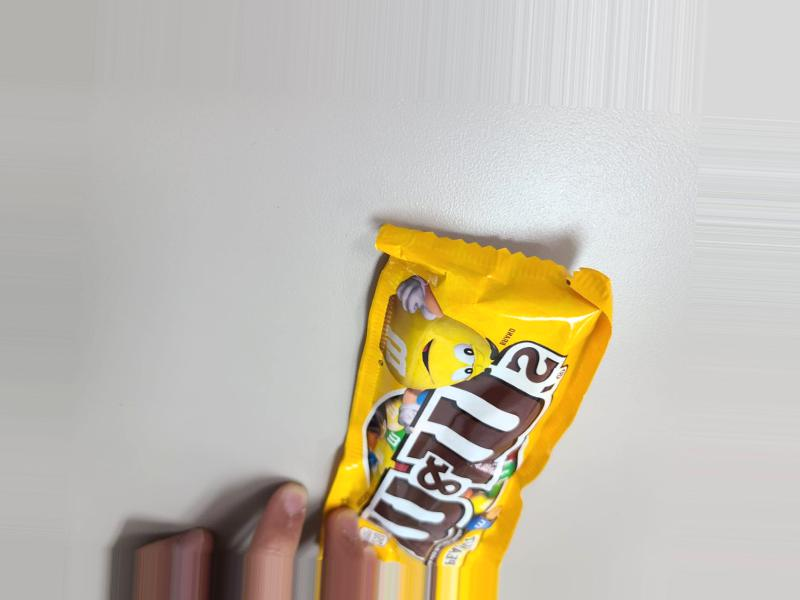m&m: (275, 248, 587, 579)
